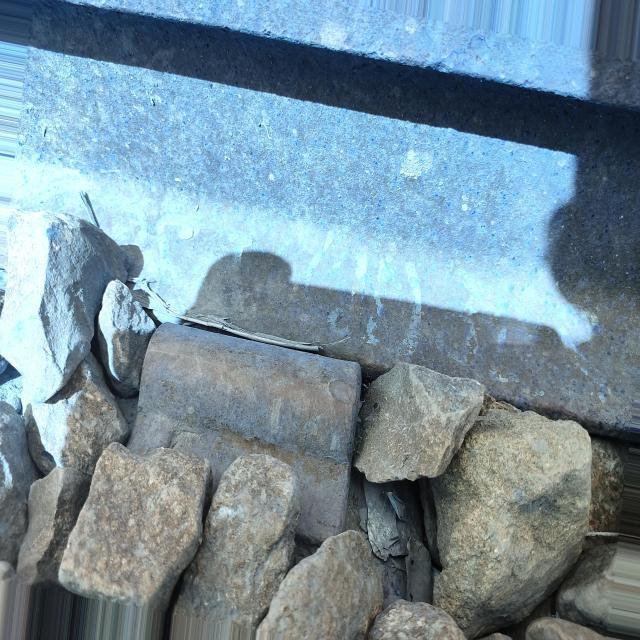Missing Fastener: (128, 282, 372, 566)
